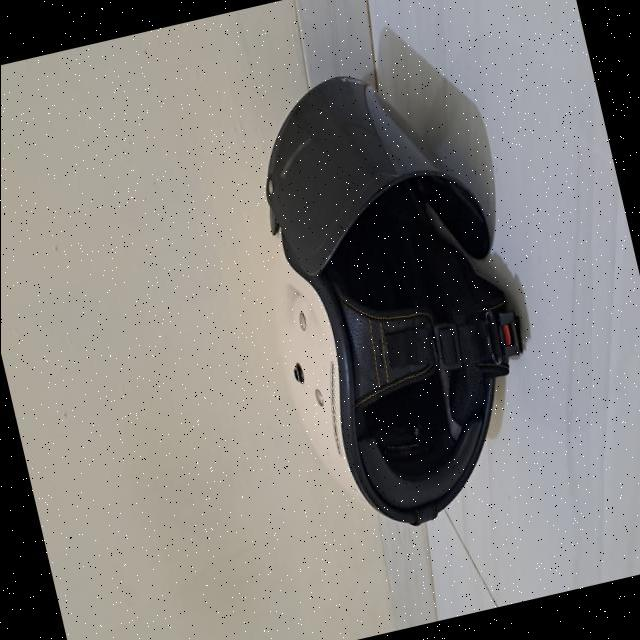Helm: (206, 36, 566, 562)
